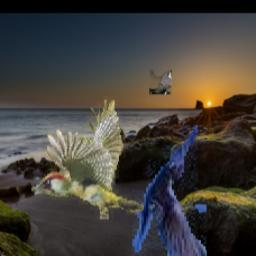Cuckoo: (149, 70, 172, 95)
Swallow: (132, 125, 207, 256)
Woodpecker: (29, 96, 144, 219)
